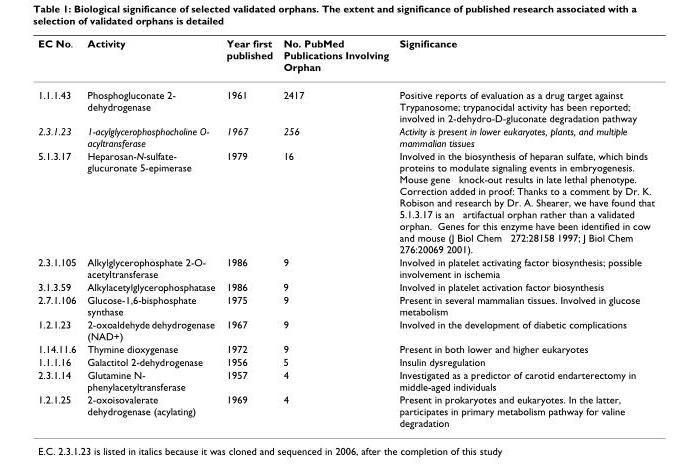table: (37, 36, 653, 428)
table column: (393, 36, 653, 428), (81, 36, 220, 428), (277, 36, 393, 428), (220, 36, 277, 428), (37, 36, 81, 428)
table column header: (37, 36, 653, 80)
table row: (37, 148, 653, 255), (37, 36, 653, 80), (37, 80, 653, 124), (37, 392, 653, 428), (37, 292, 653, 317), (37, 317, 653, 342), (37, 367, 653, 392), (37, 124, 653, 148), (37, 255, 653, 279), (37, 279, 653, 292), (37, 342, 653, 355), (37, 355, 653, 367)
